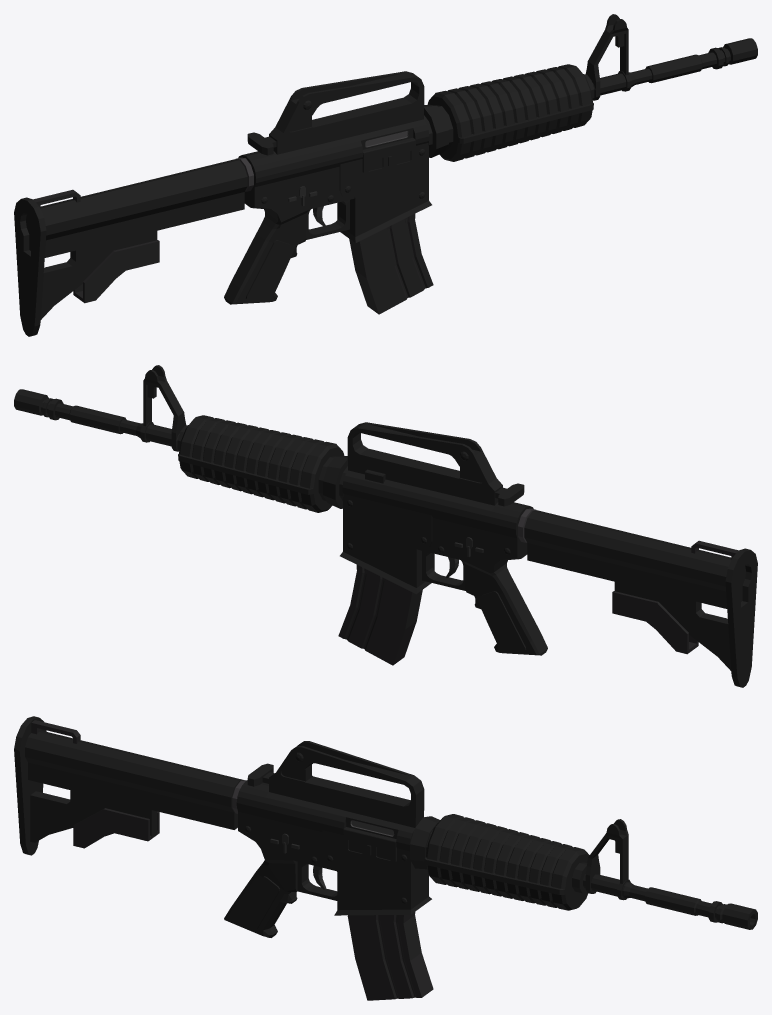
File: SM_Rifle_01.glb
3 renders of one model, top to bottom at view 1: azimuth 30°, elevation 25°; view 2: azimuth 150°, elevation 25°; view 3: azimuth 330°, elevation 25°, orthographic.
Visible parts, largest first — view 1: SM_Rifle_01; view 2: SM_Rifle_01; view 3: SM_Rifle_01.
Part boxes in pixels (x1=…): SM_Rifle_01: x1=14, y1=14, x2=757, y2=336; SM_Rifle_01: x1=14, y1=365, x2=757, y2=687; SM_Rifle_01: x1=14, y1=716, x2=757, y2=1000.
Bounding box in the file's own units: 1.11 × 0.3436 × 0.1.
1 material, 1 textured.
